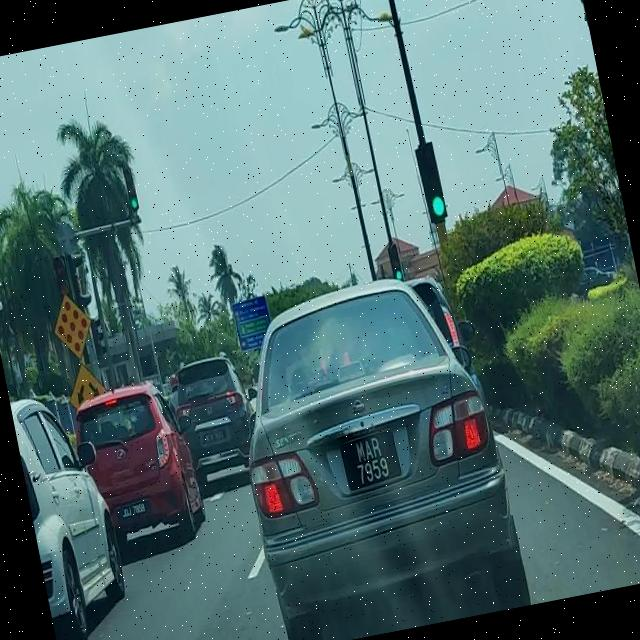green_light: (416, 141, 449, 224), (122, 164, 140, 214), (386, 243, 404, 285)
